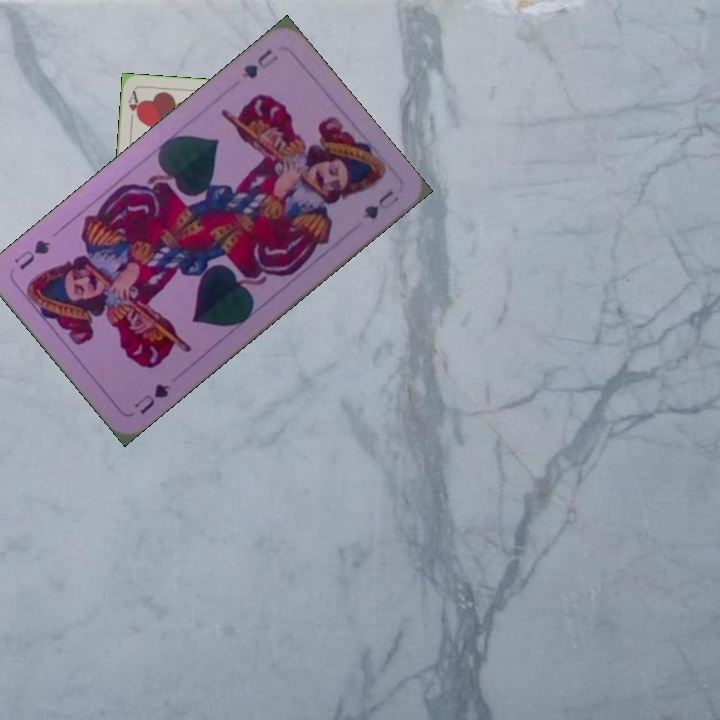GU: (130, 379, 173, 417), (238, 45, 281, 82)
HA: (124, 88, 143, 129)
